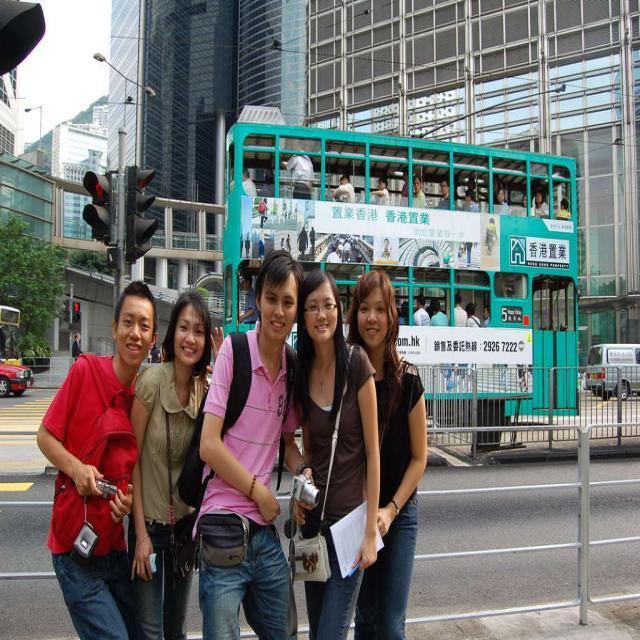road_sign: (82, 171, 113, 244)
traffic light: (125, 165, 158, 262), (72, 302, 80, 325)
